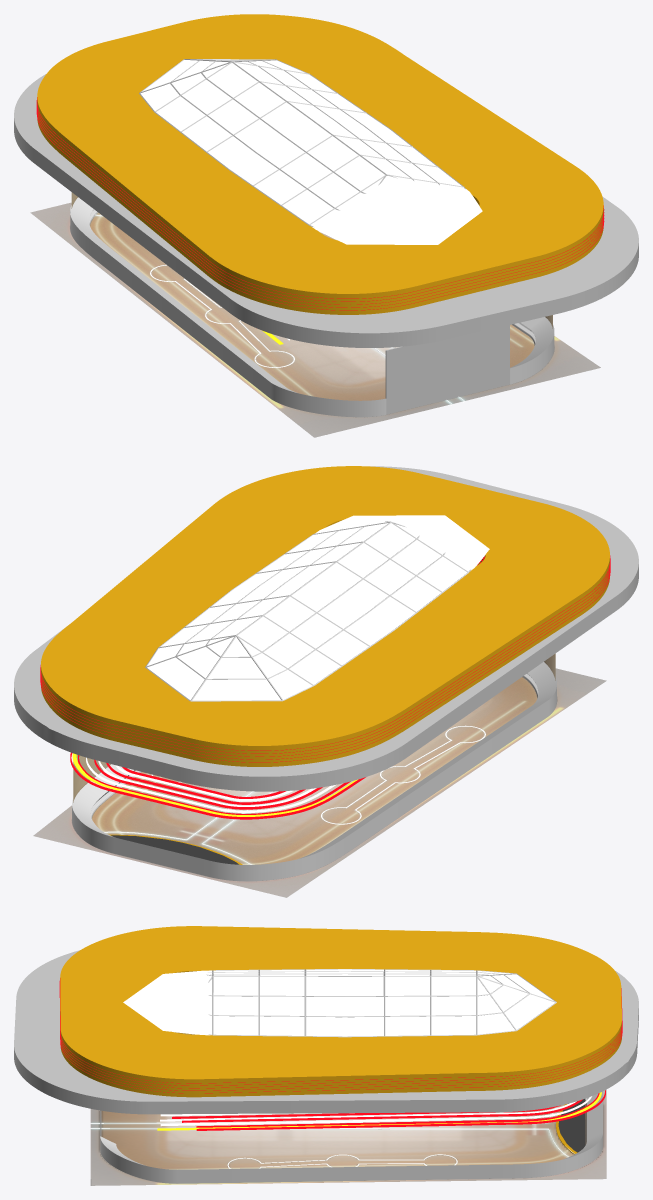
Rendered from Int-static-v2.gltf.
3 renders of one model, top to bottom at view 1: azimuth 30°, elevation 25°; view 2: azimuth 150°, elevation 25°; view 3: azimuth 270°, elevation 25°, orthographic. The views are drawn at different scales.
Visible parts, largest first — view 1: Rectangle047, Domeglass, Rectangle064, Floor1, Wall-loft1, main entrance, Rectangle054, Rectangle066, Rectangle070; view 2: Rectangle047, Domeglass, Floor1, Rectangle064, Wall-loft1, Rectangle054, Rectangle053, Arc001, Rectangle065, Rectangle058, Wall1, Circle030; view 3: Rectangle047, Domeglass, Floor1, Rectangle064, Wall-loft1, Rectangle053, Rectangle054, Rectangle058, Arc001, Rectangle057, Rectangle065, Line062 (+6 smaller).
Boxes of the visible parts, left/top/right/bottom form: Rectangle047: left=37, top=14, right=603, bottom=314; Domeglass: left=140, top=59, right=482, bottom=244; Rectangle064: left=14, top=74, right=638, bottom=347; Floor1: left=30, top=202, right=600, bottom=437; Wall-loft1: left=70, top=197, right=554, bottom=417; main entrance: left=385, top=325, right=509, bottom=414; Rectangle054: left=139, top=59, right=465, bottom=226; Rectangle066: left=36, top=97, right=604, bottom=298; Rectangle070: left=36, top=112, right=604, bottom=310; Rectangle047: left=41, top=466, right=609, bottom=766; Domeglass: left=147, top=515, right=489, bottom=700; Floor1: left=33, top=668, right=606, bottom=897; Rectangle064: left=14, top=466, right=638, bottom=791; Wall-loft1: left=72, top=662, right=556, bottom=881; Rectangle054: left=145, top=521, right=471, bottom=701; Rectangle053: left=70, top=752, right=365, bottom=819; Arc001: left=109, top=834, right=242, bottom=864; Rectangle065: left=72, top=753, right=357, bottom=816; Rectangle058: left=86, top=757, right=336, bottom=812; Wall1: left=73, top=653, right=555, bottom=802; Circle030: left=151, top=725, right=485, bottom=824; Rectangle047: left=60, top=926, right=621, bottom=1097; Domeglass: left=123, top=969, right=555, bottom=1036; Floor1: left=90, top=1089, right=606, bottom=1185; Rectangle064: left=14, top=950, right=638, bottom=1114; Wall-loft1: left=100, top=1091, right=602, bottom=1183; Rectangle053: left=172, top=1090, right=605, bottom=1130; Rectangle054: left=206, top=969, right=556, bottom=1037; Rectangle058: left=160, top=1096, right=591, bottom=1126; Arc001: left=556, top=1099, right=585, bottom=1154; Rectangle057: left=160, top=1101, right=576, bottom=1121; Rectangle065: left=157, top=1092, right=601, bottom=1130; Line062: left=90, top=1108, right=568, bottom=1156.
Bounding box in the file's own units: 24.89 × 11.01 × 40.99.
14 materials, 3 textured.
